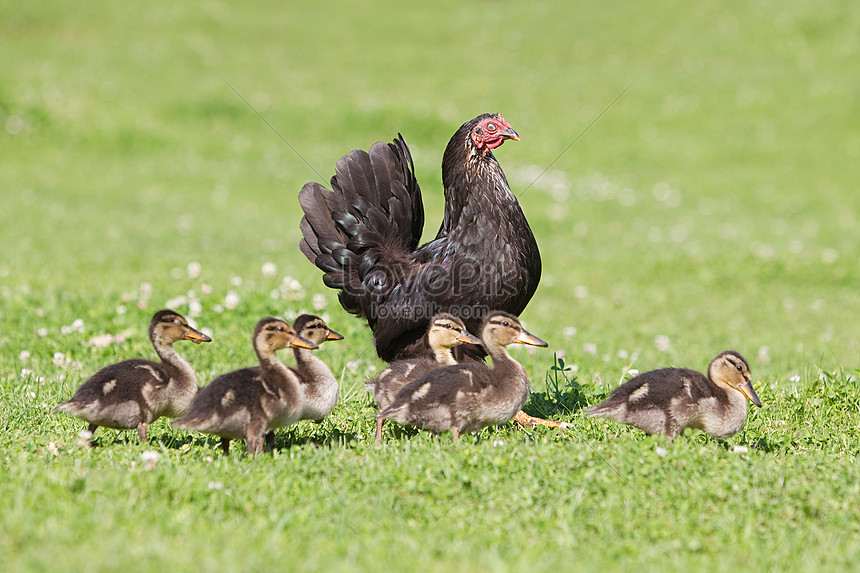ayam: (288, 96, 556, 310)
bebek: (373, 310, 550, 454), (583, 336, 775, 465), (204, 305, 351, 446), (59, 303, 203, 438)
